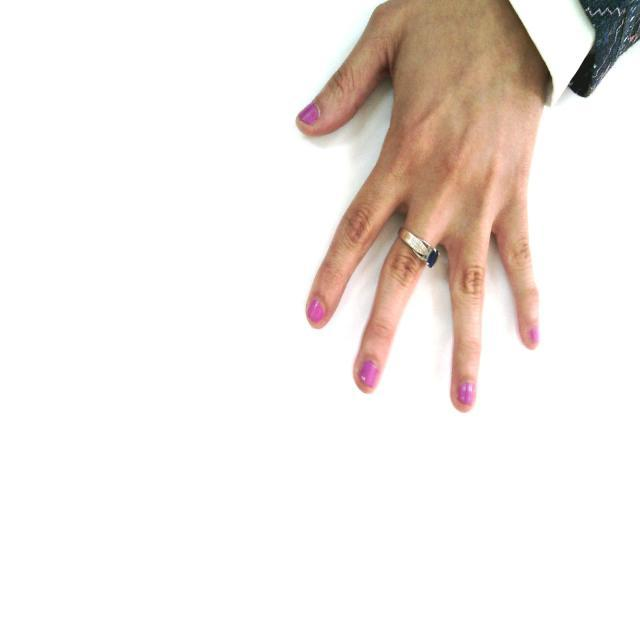Fingernail: (361, 360, 379, 388), (299, 101, 318, 124), (309, 299, 325, 326), (458, 382, 474, 405), (528, 326, 539, 344)
